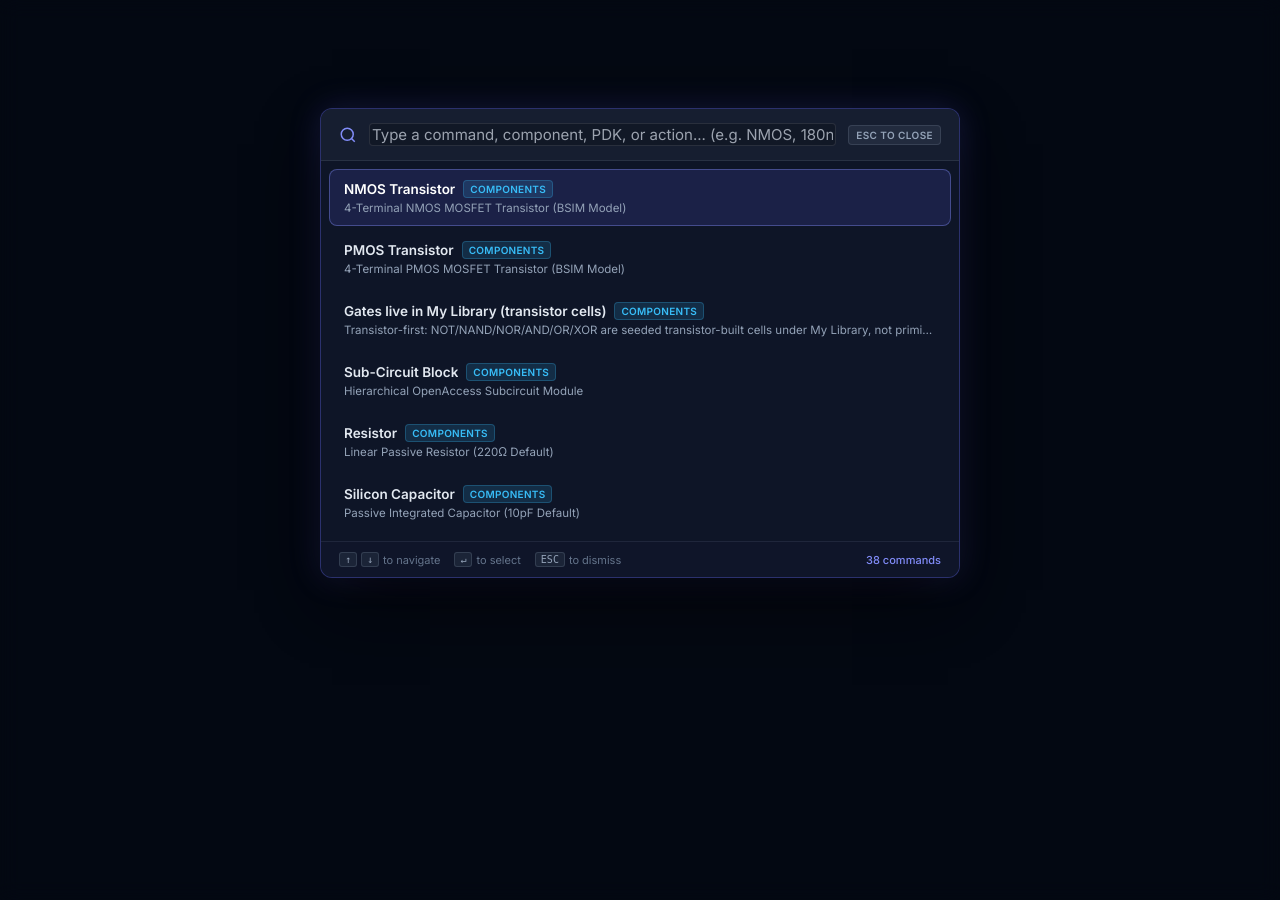
it: CommandPaletteModal and fuzzyScore › CommandPaletteModal component › filters components on fuzzy search query
Replace the text in the field with placeholder "Type a command" with "potentiometer": (603,134) [369, 123, 836, 146]
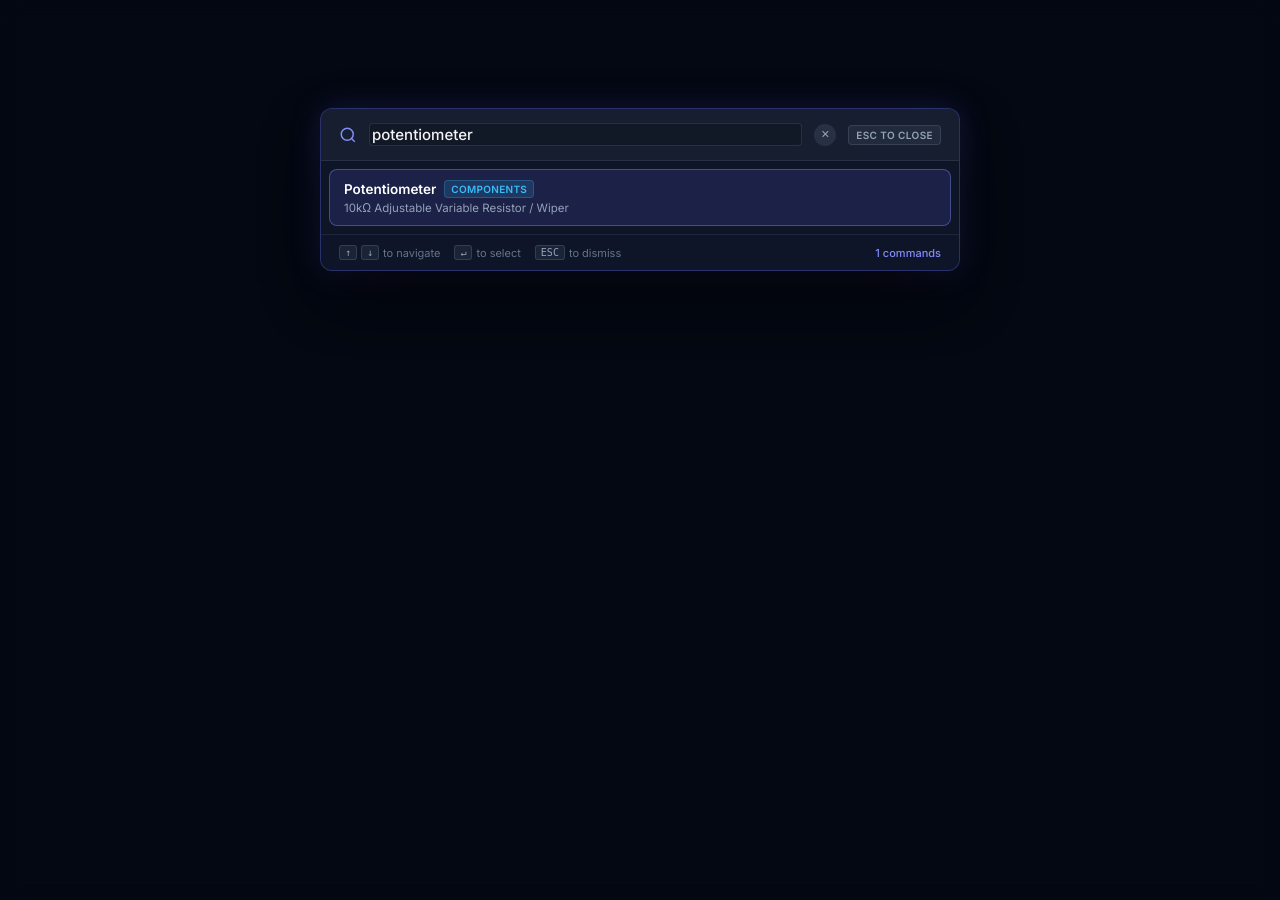
Check: the text "Potentiometer" is shown, box [344, 181, 436, 197]
Check: the text "NMOS Transistor" is gone
